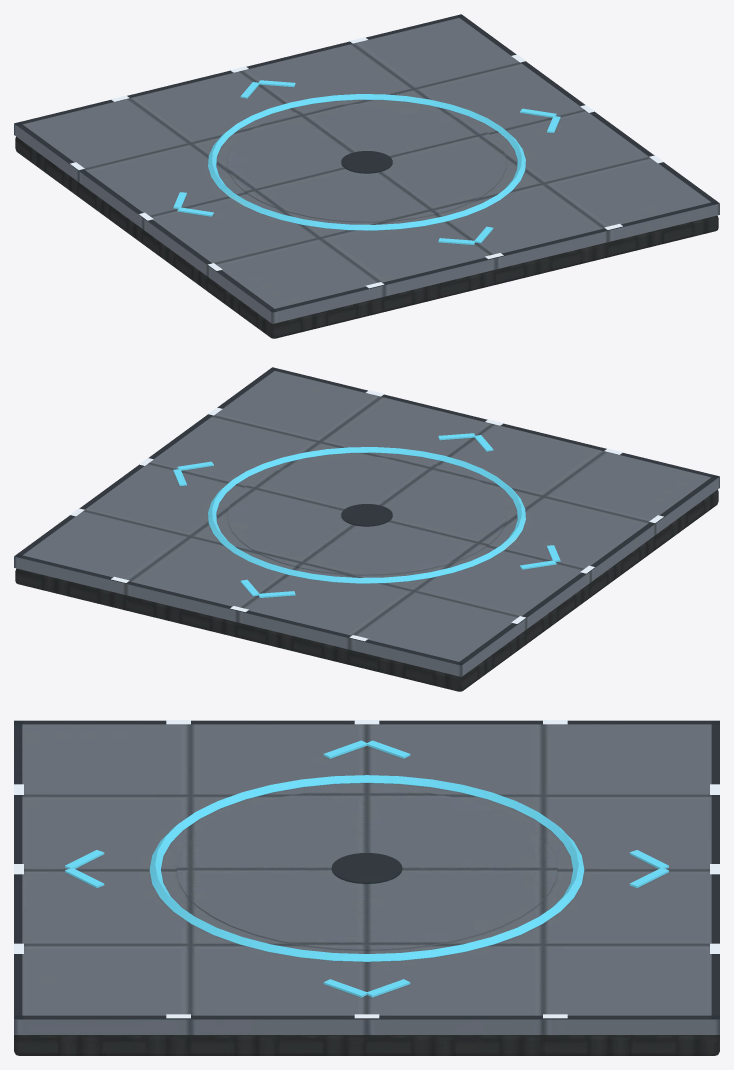
The model's file is hull_enterprise_dock.glb.
3 renders of one model, top to bottom at view 1: azimuth 30°, elevation 25°; view 2: azimuth 150°, elevation 25°; view 3: azimuth 270°, elevation 25°, orthographic. The views are drawn at different scales.
Parts seen in each view (by area): view 1: te_hull_enterprise_dock; view 2: te_hull_enterprise_dock; view 3: te_hull_enterprise_dock.
Part boxes in pixels (<box>): te_hull_enterprise_dock: <box>14,14,719,338</box>; te_hull_enterprise_dock: <box>14,367,719,691</box>; te_hull_enterprise_dock: <box>14,720,719,1055</box>.
Size of the model in its own units: 1 by 0.069 by 1.
Materials: 1 (1 with a texture image).
